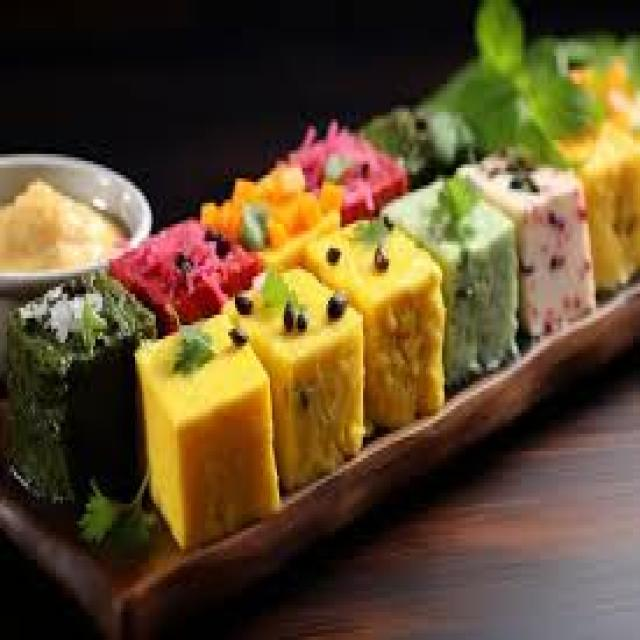DHOKLA: (135, 318, 277, 542), (303, 220, 445, 423), (230, 269, 361, 486), (384, 175, 517, 385)
